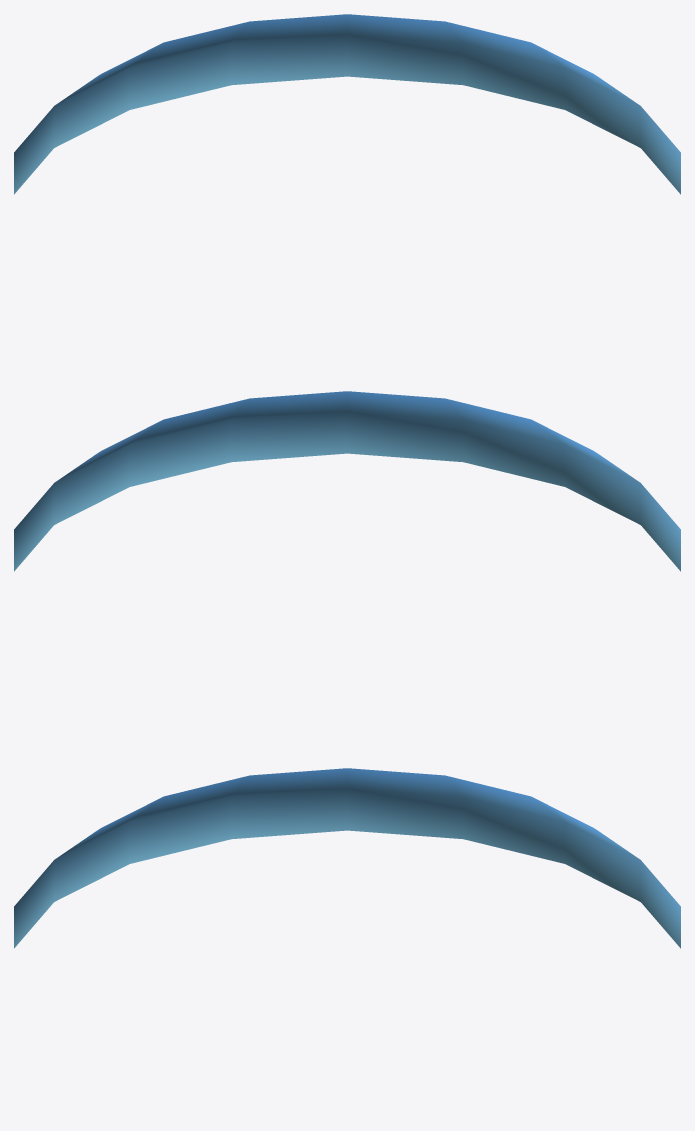
File: kd_stage_1364a3_8_1.glb
3 views of the same model, one above another, from view 1: azimuth 30°, elevation 25°; view 2: azimuth 150°, elevation 25°; view 3: azimuth 270°, elevation 25° (orthographic).
Parts seen in each view (by area): view 1: kd_stage_1364a3_8_1; view 2: kd_stage_1364a3_8_1; view 3: kd_stage_1364a3_8_1.
Boxes of the visible parts, x1,y1,x2,y2 form: kd_stage_1364a3_8_1: [14, 14, 680, 194]; kd_stage_1364a3_8_1: [14, 391, 680, 571]; kd_stage_1364a3_8_1: [14, 768, 680, 948].
Size of the model in its own units: 12799 by 2926 by 12605.
1 material, 1 textured.
